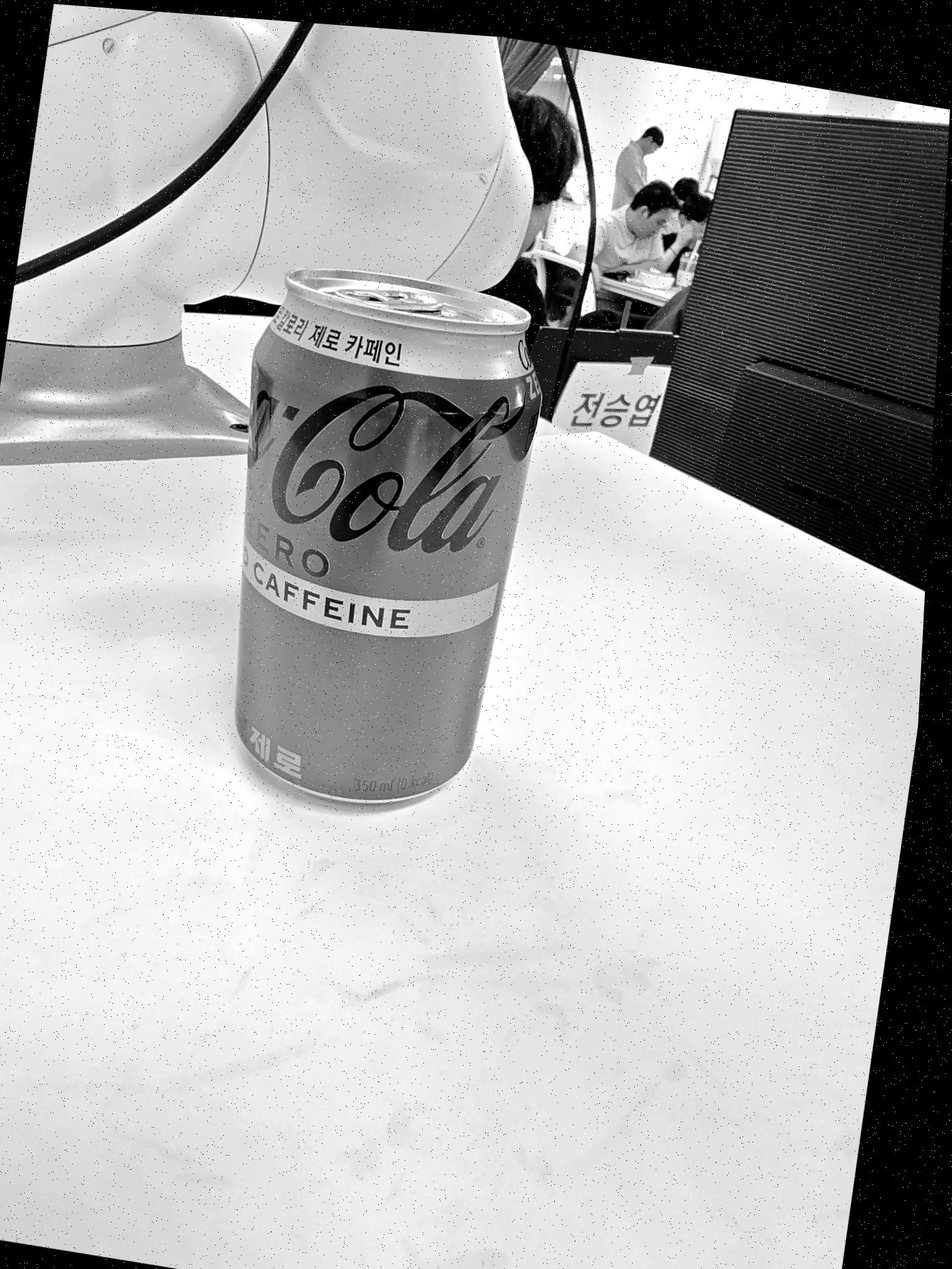can_coke_decaf: (236, 271, 541, 802)
